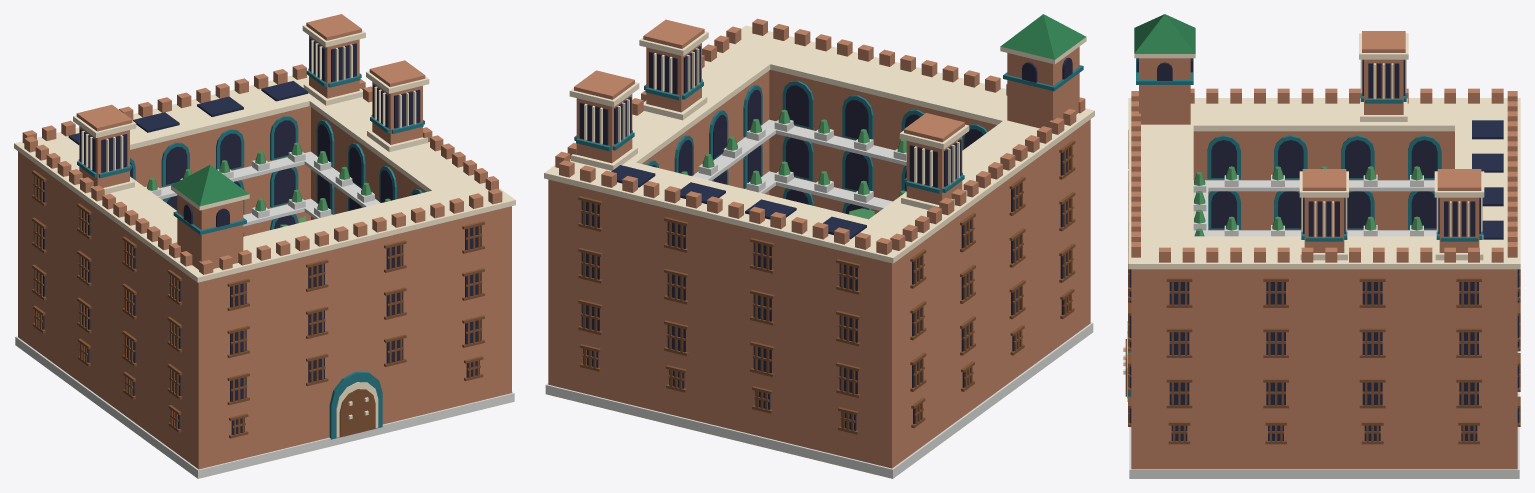
The model's file is house-2x2-4f-riad-a-solar.glb.
3 renders of one model, left to right at view 1: azimuth 30°, elevation 25°; view 2: azimuth 150°, elevation 25°; view 3: azimuth 270°, elevation 25°, orthographic. The views are drawn at different scales.
Parts seen in each view (by area): view 1: house-2x2-4f-riad-a-solar; view 2: house-2x2-4f-riad-a-solar; view 3: house-2x2-4f-riad-a-solar.
Part boxes in pixels (x1=…): house-2x2-4f-riad-a-solar: x1=14, y1=14, x2=515, y2=478; house-2x2-4f-riad-a-solar: x1=544, y1=14, x2=1094, y2=478; house-2x2-4f-riad-a-solar: x1=1123, y1=14, x2=1520, y2=478.
Size of the model in its own units: 1.98 by 1.75 by 2.01.
Materials: 1 (1 with a texture image).
